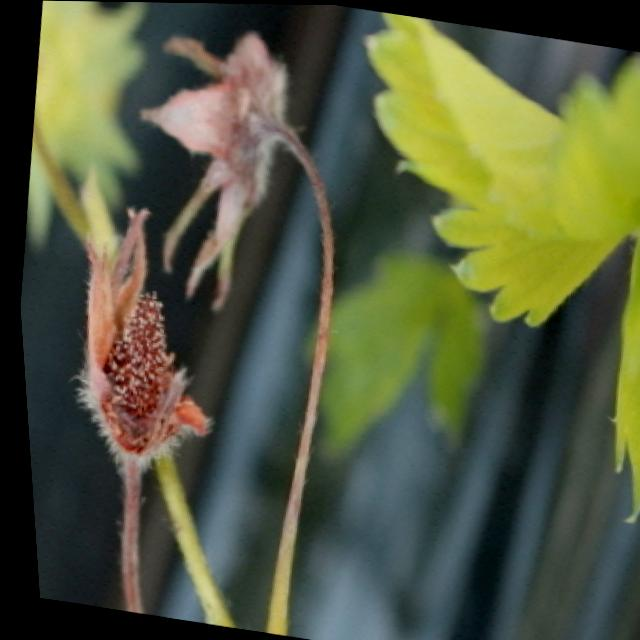Gray Mold: (132, 30, 292, 310), (72, 204, 206, 478)
